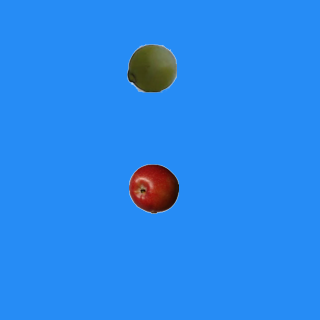Apple Braeburn: (128, 163, 178, 213)
Grape White 4: (126, 42, 176, 92)
